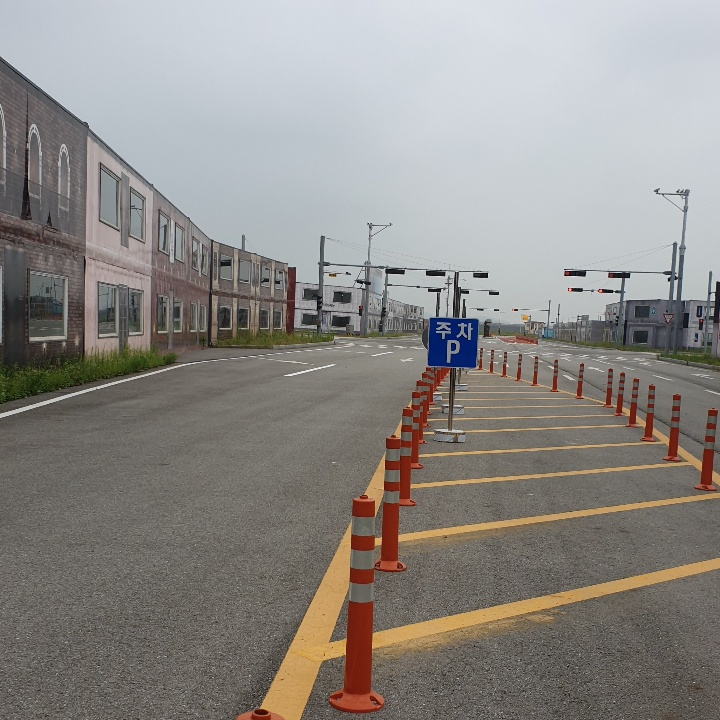parking: (440, 335, 463, 367)
